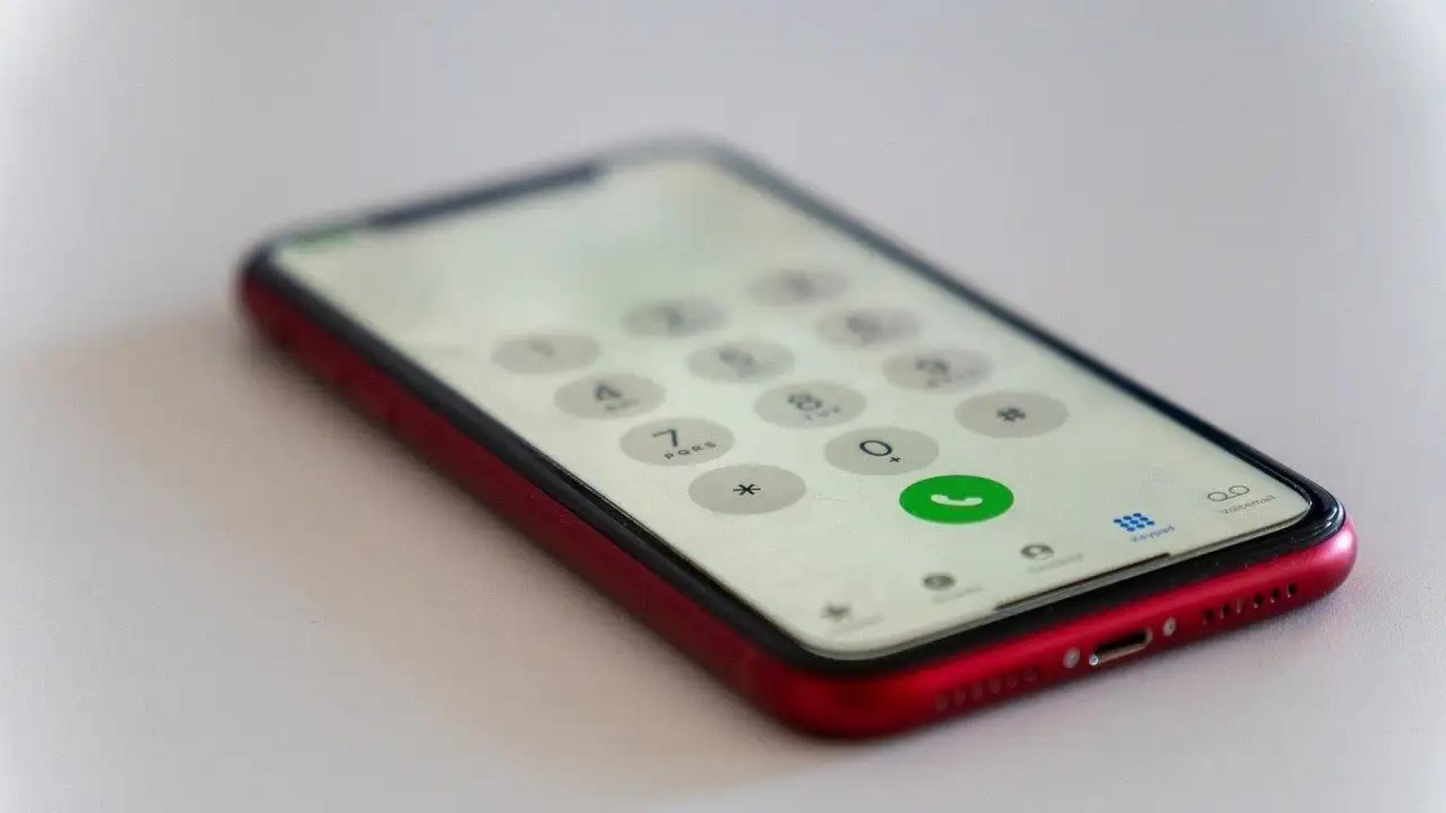phone: (227, 125, 1364, 753)
